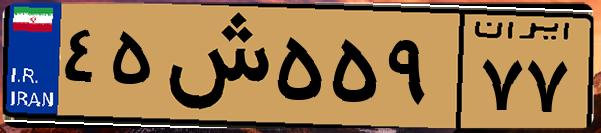4: (57, 26, 110, 100)
5: (270, 28, 330, 110), (330, 28, 385, 110), (110, 28, 158, 98)
7: (475, 38, 525, 113), (525, 38, 570, 115)
9: (385, 28, 445, 110)
ش: (158, 12, 270, 120)
